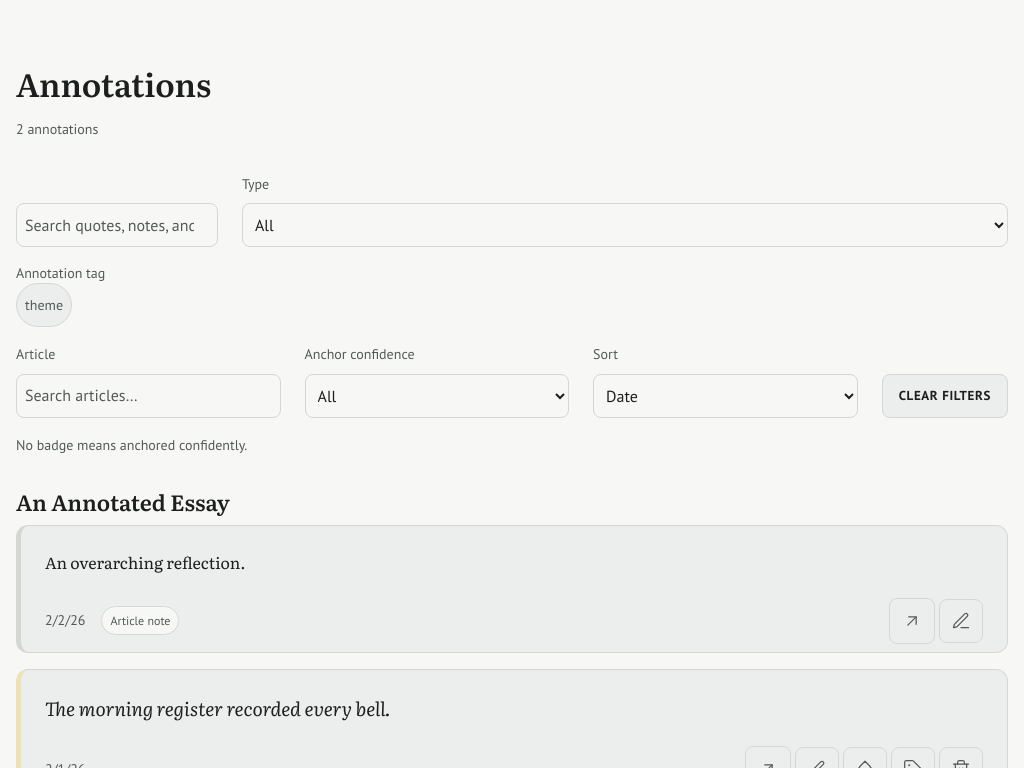
Scenario: ReviewView article-note rows (issue #210) › editing opens the shared inline editor; the URL never changes; status is honest
This screenshot has width=1024, height=768.
Click the button named "Edit article note: An overarching reflection.".
click(961, 621)  # box [939, 599, 983, 643]
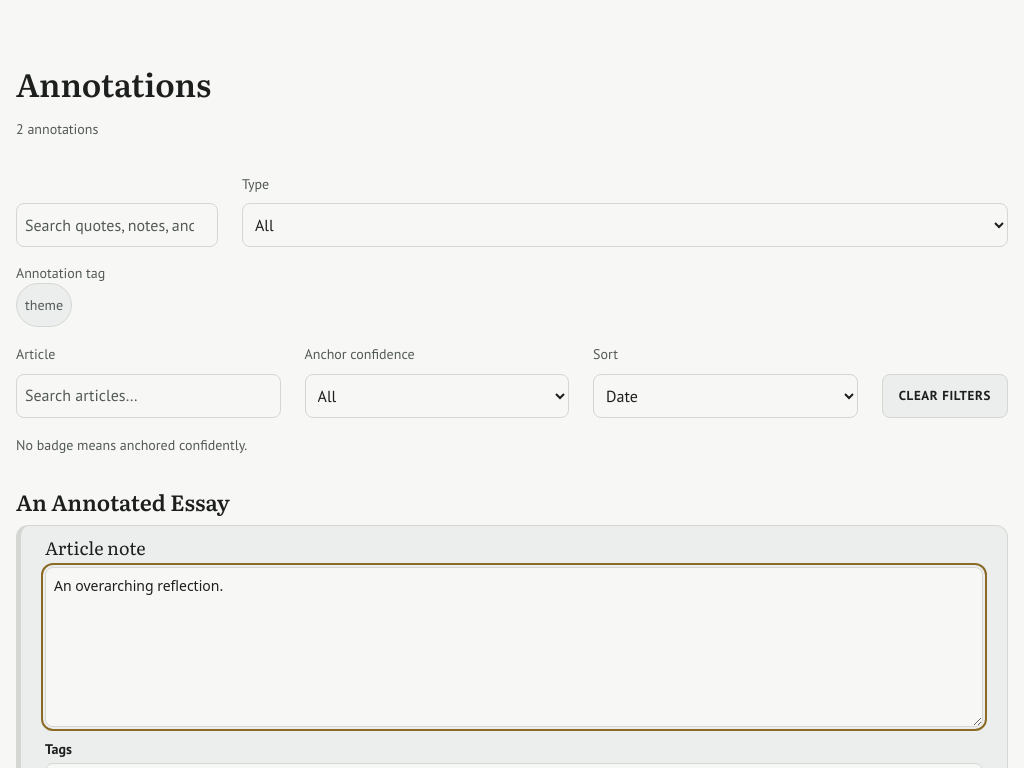
Result: the text box labelled "Article note" holds "An overarching reflection."
Type " More." into the text box labelled "Article note".
click(514, 647); type(" More.")  # box [45, 567, 983, 727]
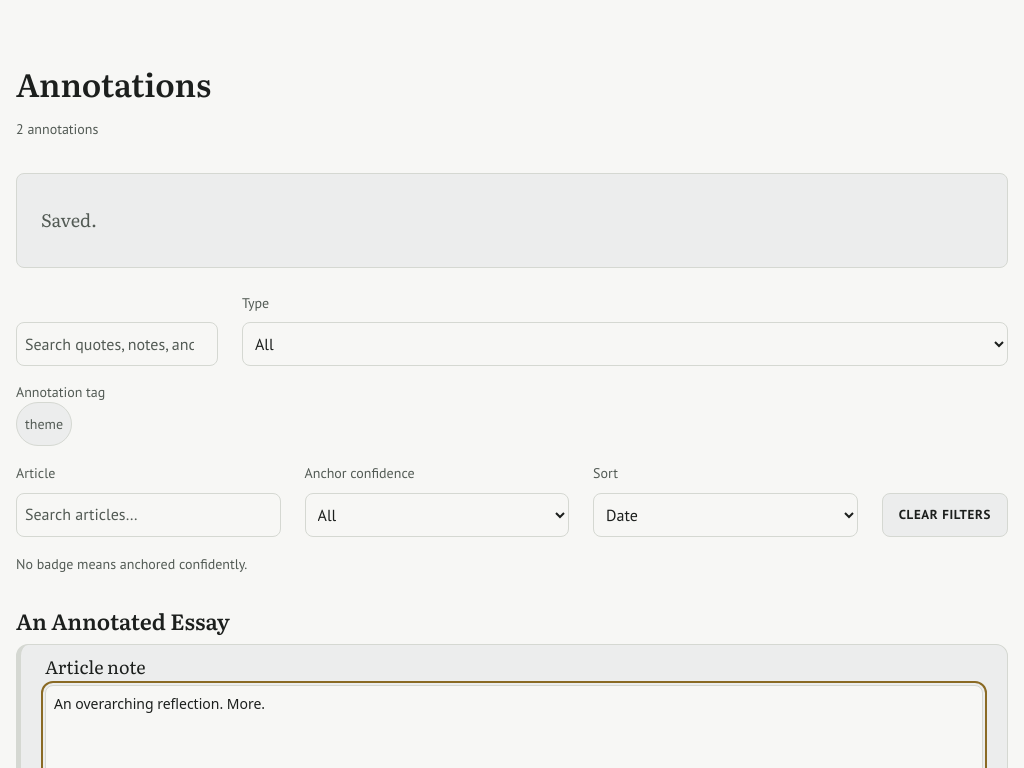
Result: the text "Saved." is shown at [41, 206, 97, 233]
